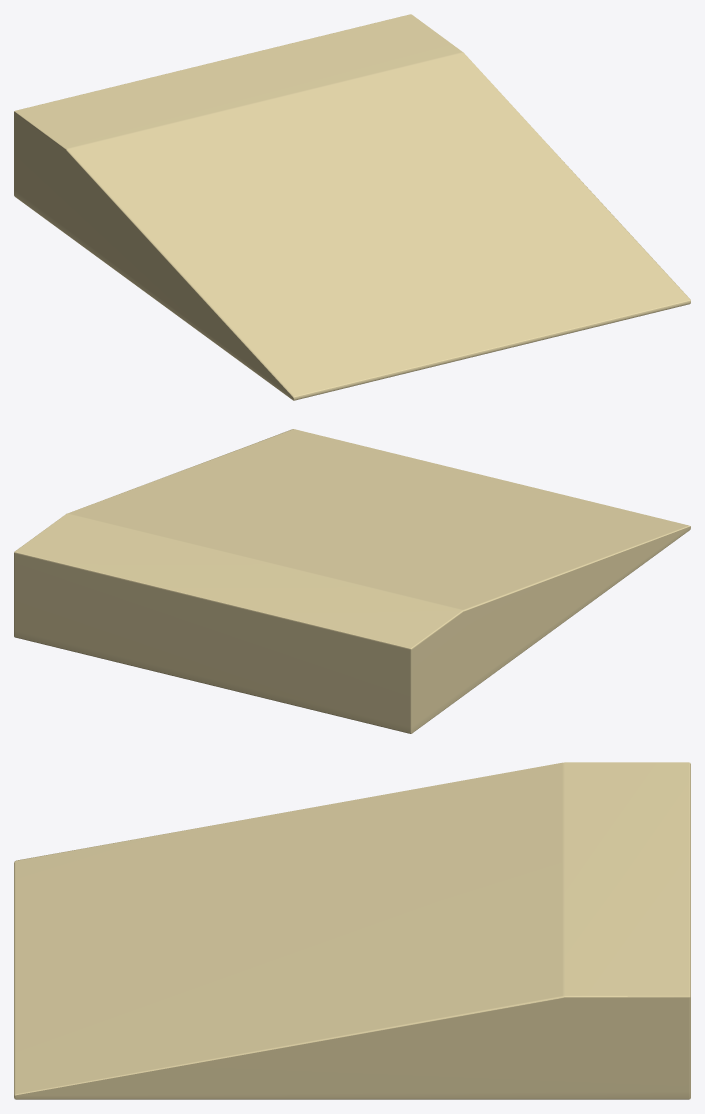
The model's file is ramp.fbx.
3 renders of one model, top to bottom at view 1: azimuth 30°, elevation 25°; view 2: azimuth 150°, elevation 25°; view 3: azimuth 270°, elevation 25°, orthographic. The views are drawn at different scales.
Parts seen in each view (by area): view 1: wood_ramp; view 2: wood_ramp; view 3: wood_ramp.
Boxes of the visible parts, x1,y1,x2,y2 form: wood_ramp: [14, 14, 690, 400]; wood_ramp: [14, 429, 690, 733]; wood_ramp: [14, 762, 690, 1099].
Bounding box in the file's own units: 13.12 × 2.71 × 15.98.
